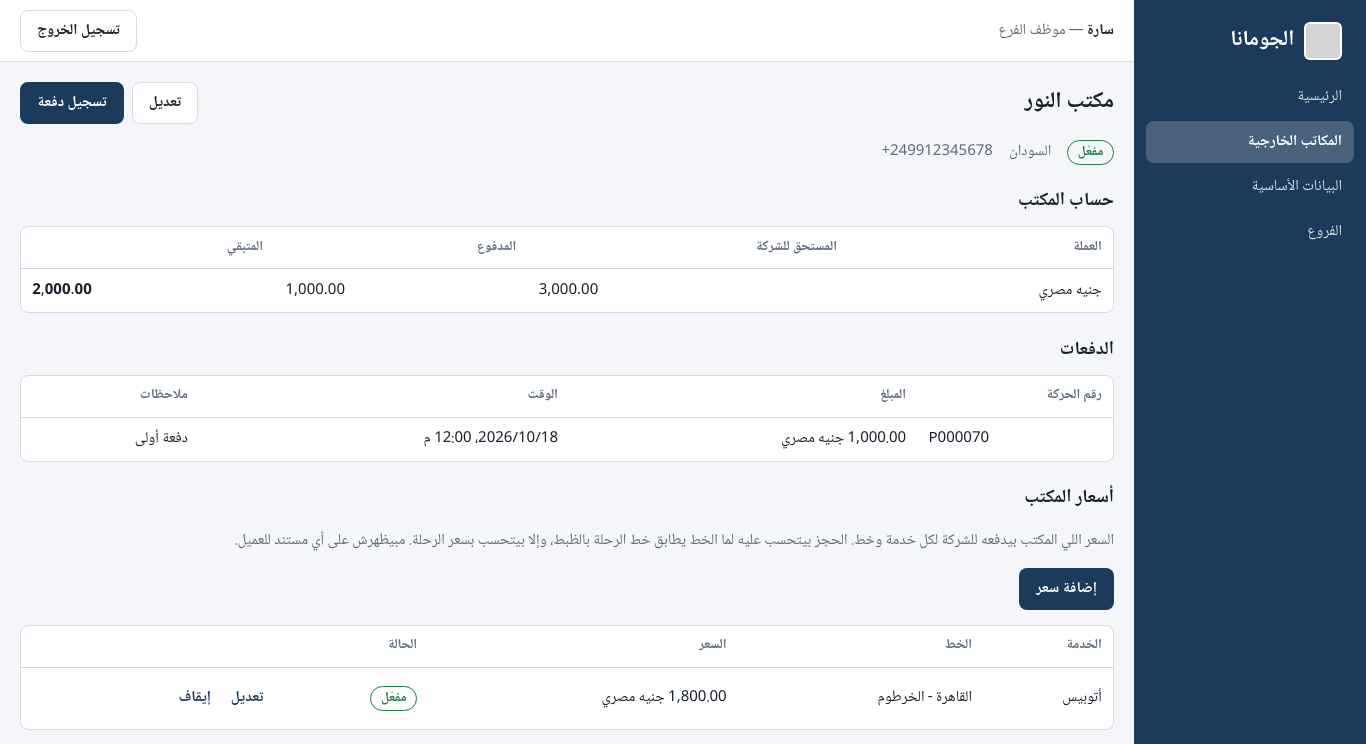
Test: agent file › shows the server problem when the payment is larger than the balance
Click the button "تسجيل دفعة": x=72, y=103 [20,82,124,124]
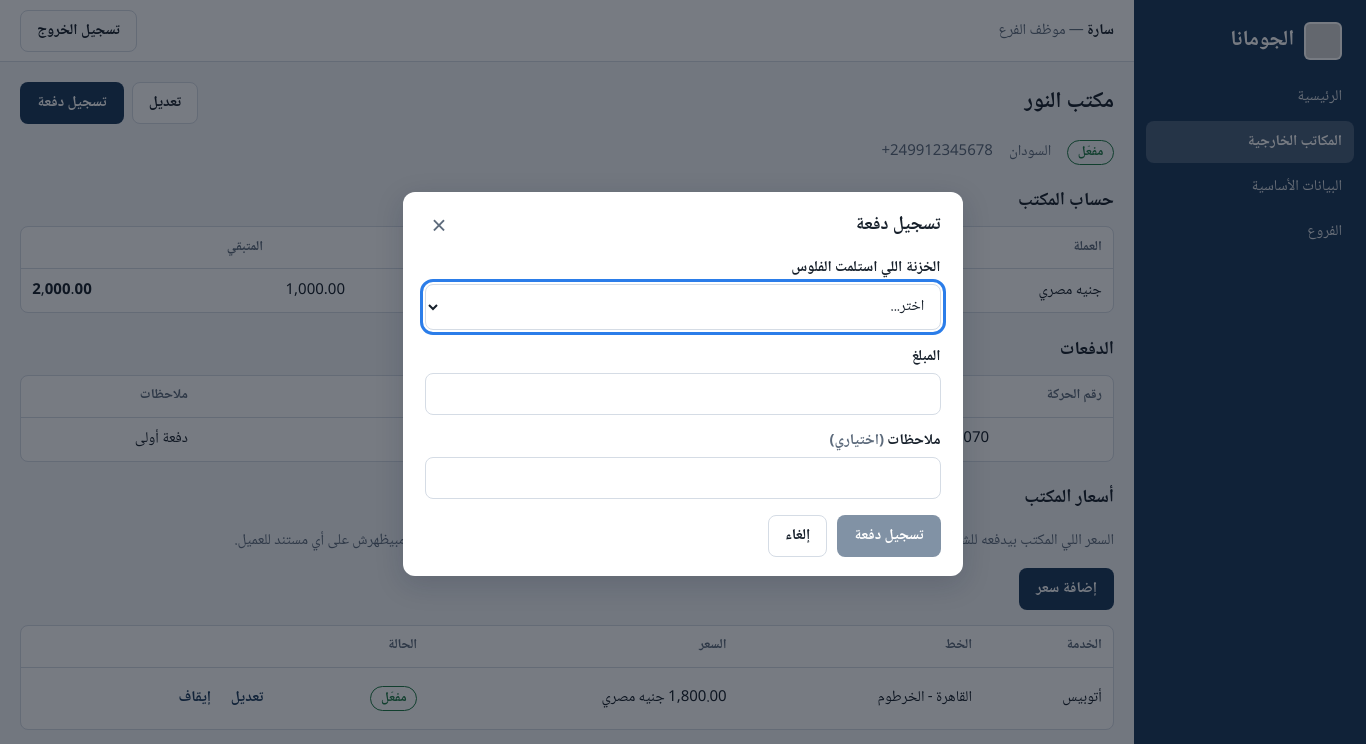
Select "نقدي — جنيه مصري (فرع القاهرة)" in the dropdown labelled "الخزنة اللي استلمت الفلوس": x=683, y=307 [425,284,941,330]
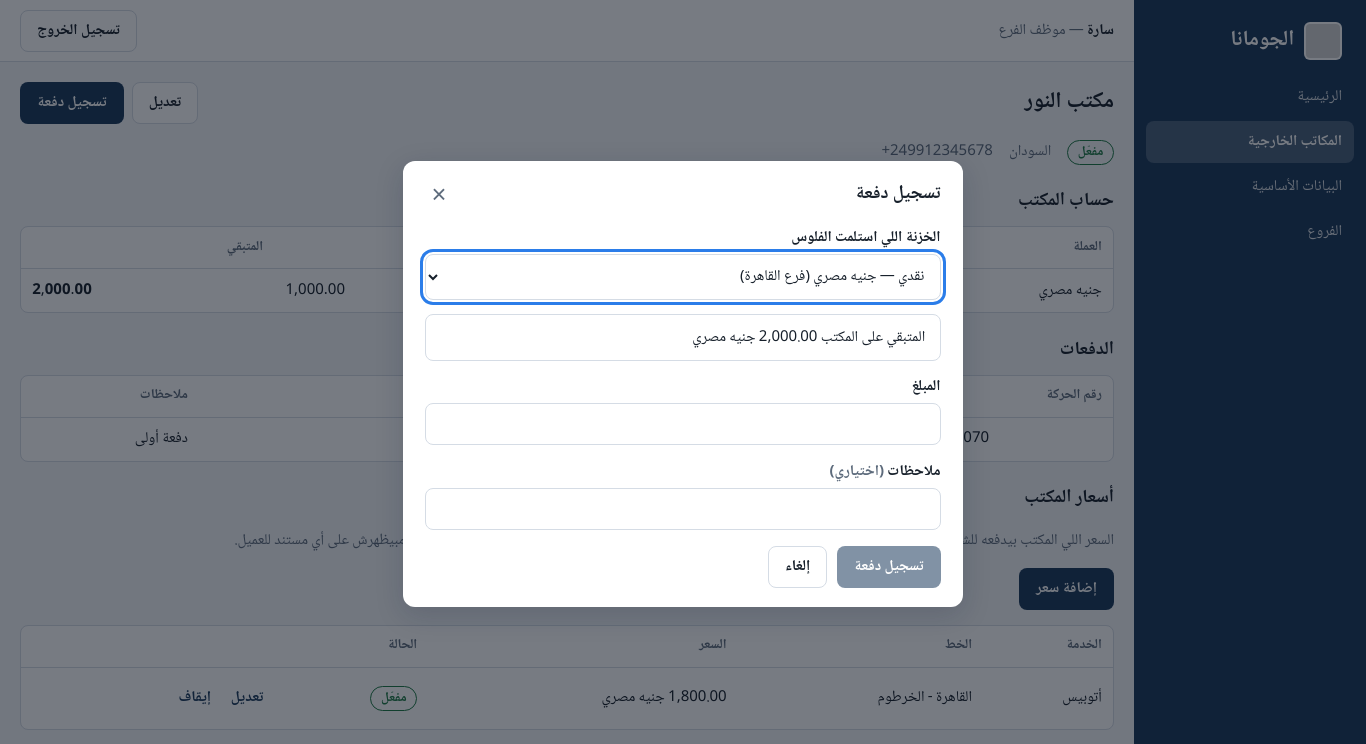
In the field labelled "المبلغ": x=683, y=424 [425,403,941,445], type "999999"
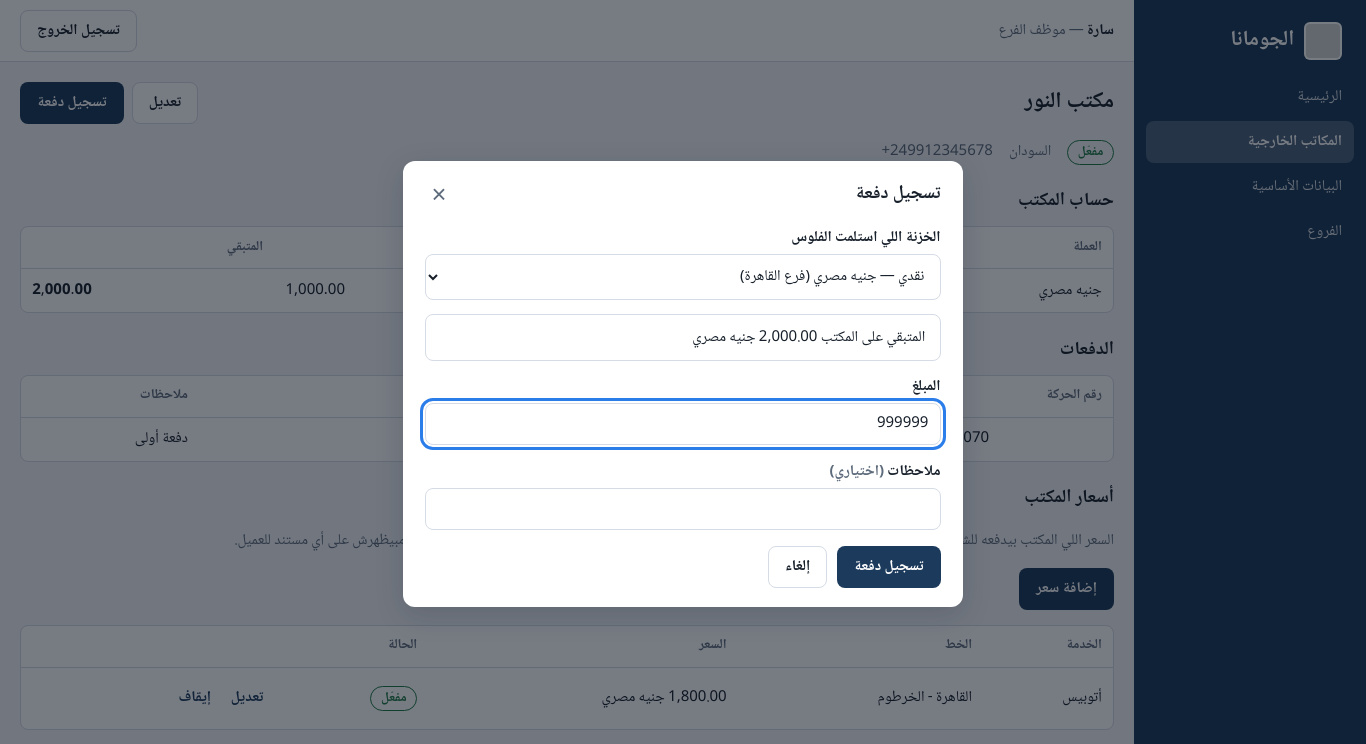
Click the button "تسجيل دفعة": x=889, y=567 [837,546,941,588]
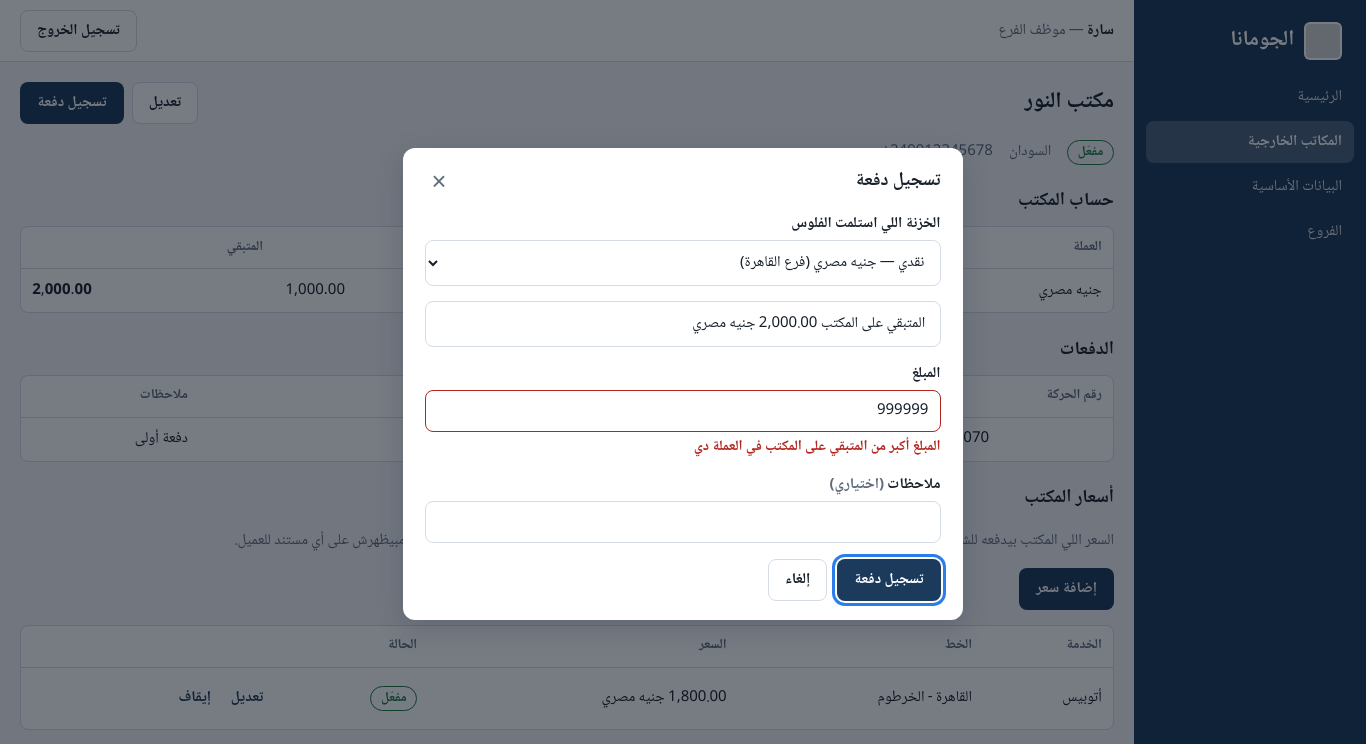
Result: the text "المبلغ أكبر من المتبقي على المكتب في العملة دي" is shown at [694,435,941,459]
